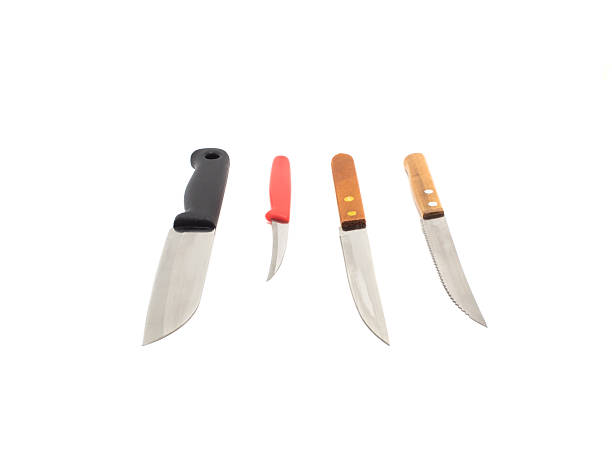knife: (140, 145, 228, 345), (403, 151, 486, 328), (330, 155, 392, 345), (261, 157, 292, 283)
